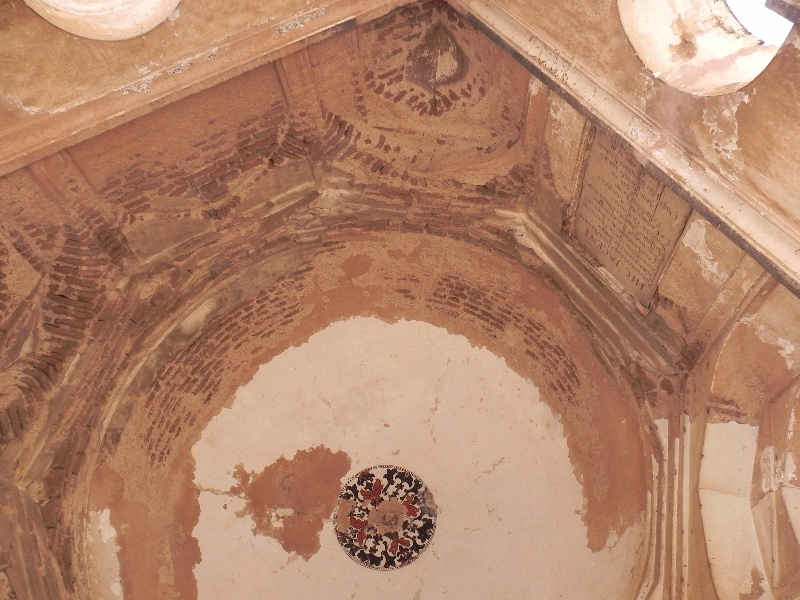Exposed Bricks: (148, 255, 325, 436), (113, 100, 367, 222), (423, 258, 582, 402), (1, 233, 110, 436)
Spalling: (216, 445, 357, 483)
